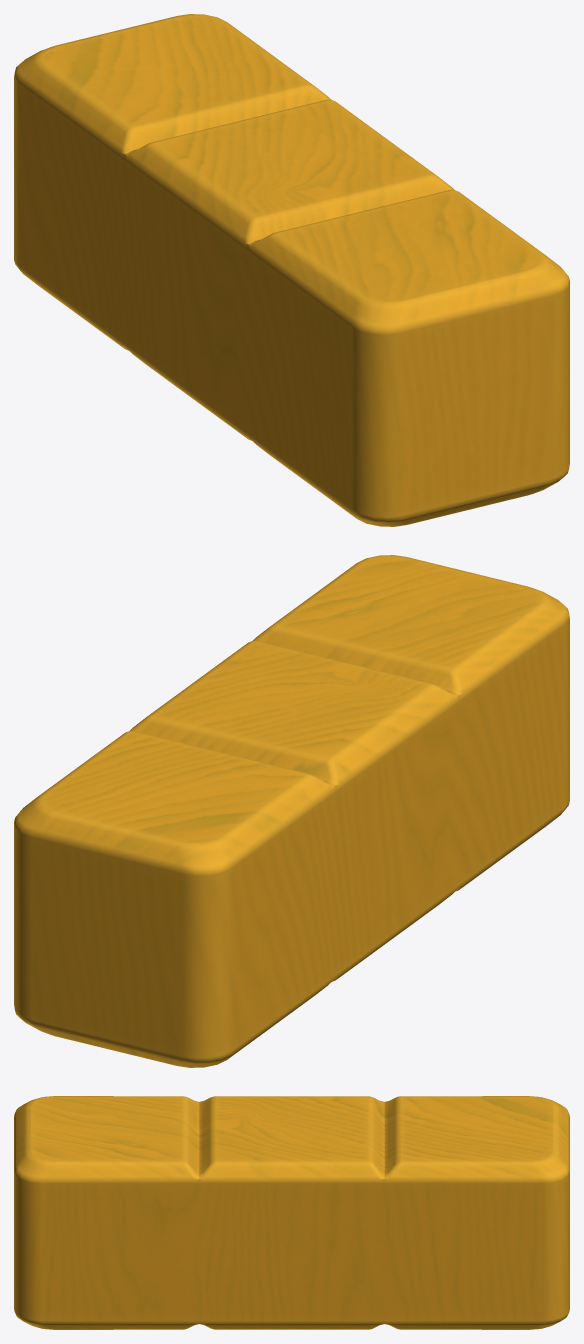
The model's file is Block_07.fbx.
3 views of the same model, one above another, from view 1: azimuth 30°, elevation 25°; view 2: azimuth 150°, elevation 25°; view 3: azimuth 270°, elevation 25° (orthographic). The views are drawn at different scales.
Parts seen in each view (by area): view 1: Block_07; view 2: Block_07; view 3: Block_07.
Part boxes in pixels (box(x1,y1,x2,y2)): Block_07: box(14, 14, 569, 526); Block_07: box(14, 555, 569, 1067); Block_07: box(14, 1096, 569, 1329).
Size of the model in its own units: 1 by 1 by 3.
Materials: 1 (1 with a texture image).
